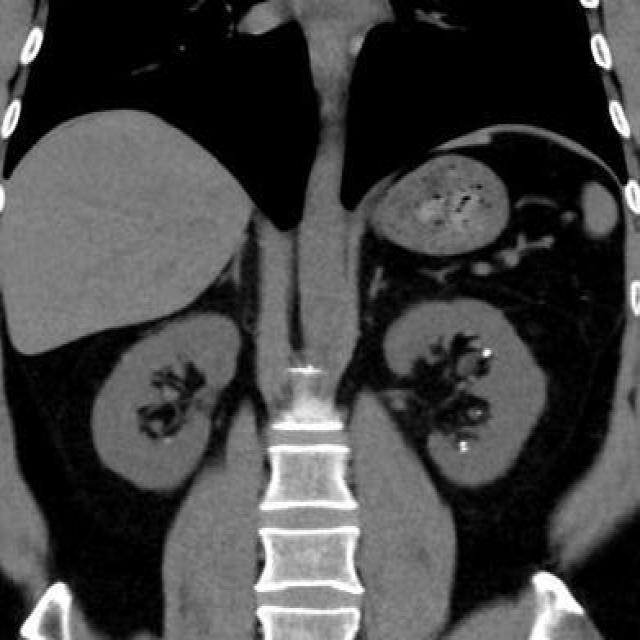Tas_Var: (481, 346, 493, 358), (456, 439, 469, 447), (458, 446, 470, 454), (476, 408, 484, 416)
